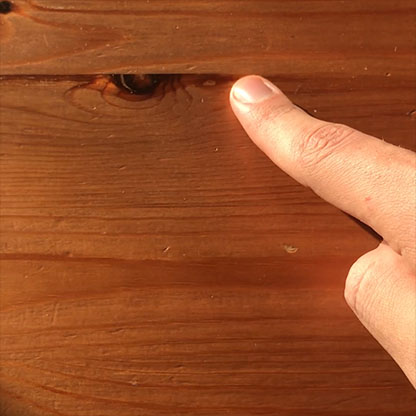fingertip: (217, 73, 292, 121)
